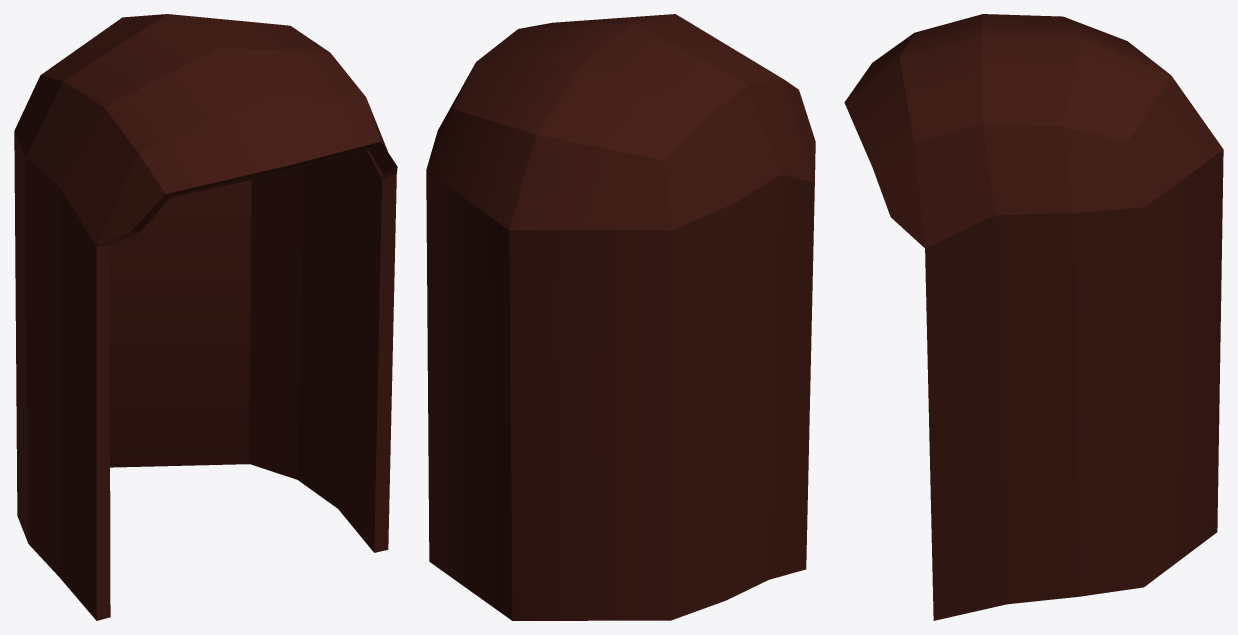
The model's file is Char-model_Female-H_S1_LONG.fbx.
3 views of the same model, side by side, from view 1: azimuth 30°, elevation 25°; view 2: azimuth 150°, elevation 25°; view 3: azimuth 270°, elevation 25° (orthographic). The views are drawn at different scales.
Visible parts, largest first — view 1: Char_Hair_Lıng; view 2: Char_Hair_Lıng; view 3: Char_Hair_Lıng.
Part boxes in pixels (x1,y1,x2,y2): Char_Hair_Lıng: (14, 14, 397, 620); Char_Hair_Lıng: (426, 14, 815, 620); Char_Hair_Lıng: (844, 14, 1223, 620).
Bounding box in the file's own units: 173 × 284 × 189.
